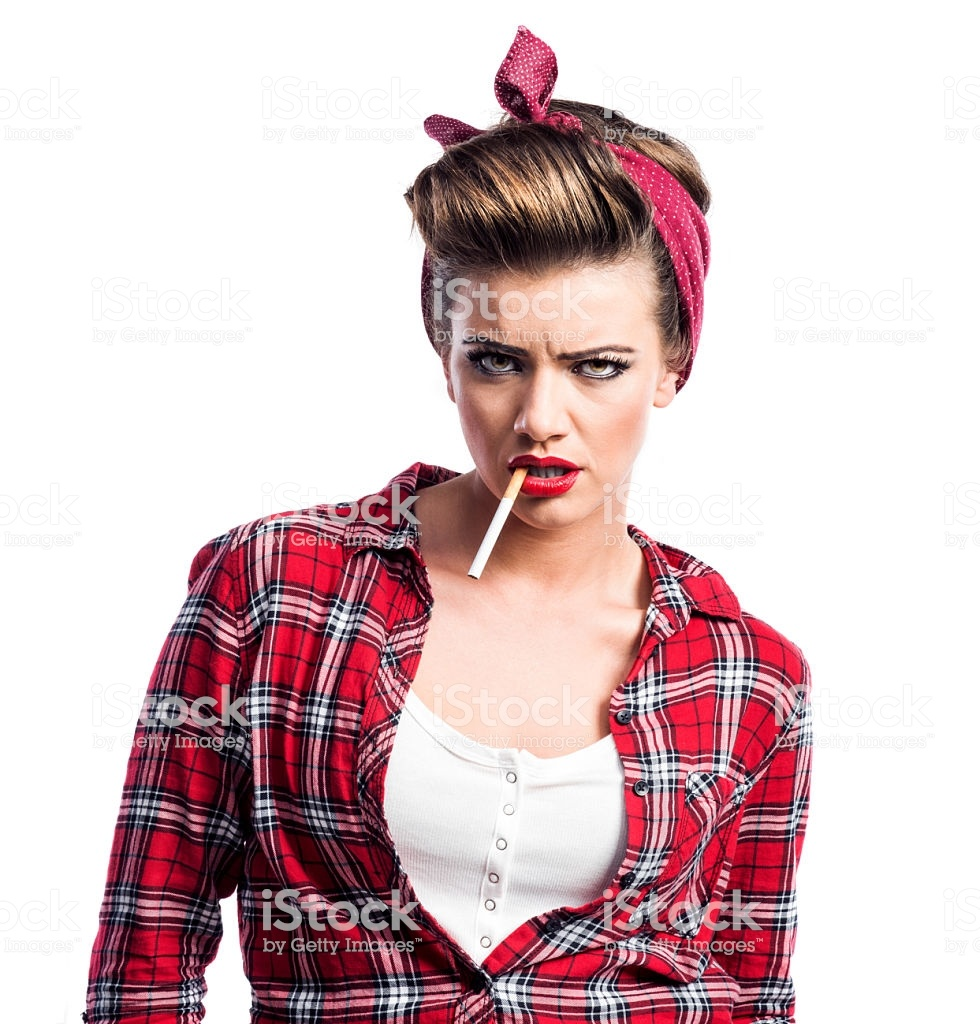sigaretta: (467, 453, 531, 588)
